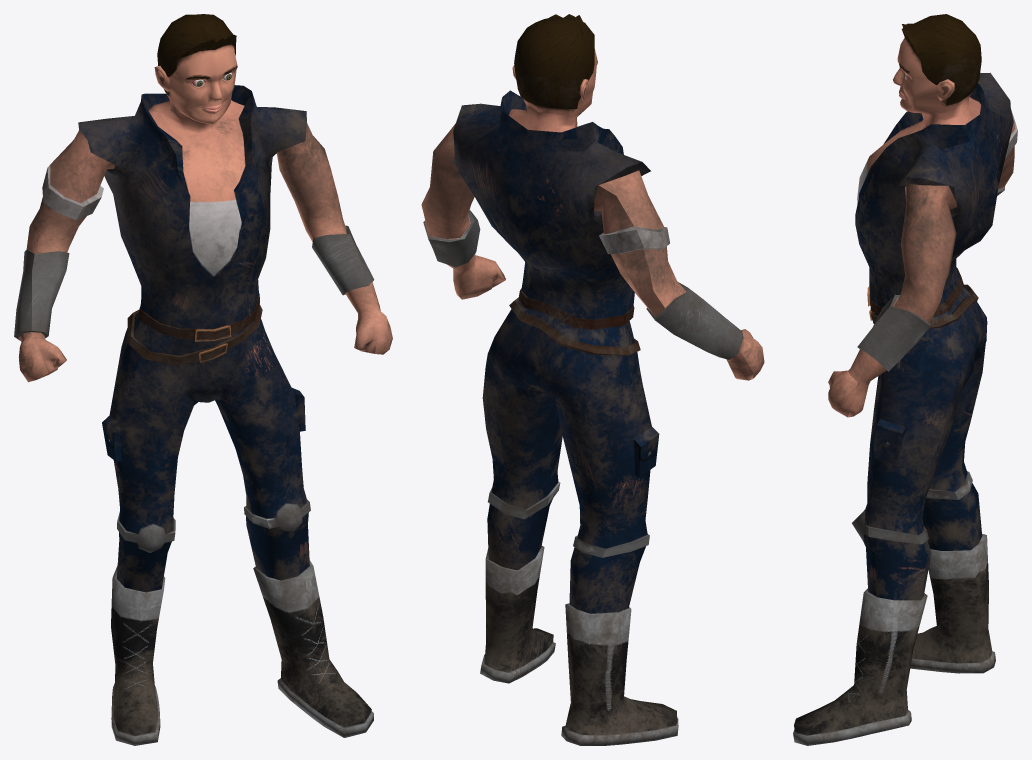
Rendered from Anim_especial_jugador.0039.obj.
3 views of the same model, side by side, from view 1: azimuth 30°, elevation 25°; view 2: azimuth 150°, elevation 25°; view 3: azimuth 270°, elevation 25° (orthographic). The views are drawn at different scales.
Visible parts, largest first — view 1: polySurface1; view 2: polySurface1; view 3: polySurface1.
Boxes of the visible parts, bbox=[...] form: polySurface1: bbox=[14, 14, 392, 745]; polySurface1: bbox=[421, 14, 764, 745]; polySurface1: bbox=[793, 14, 1017, 745].
Size of the model in its own units: 4.94 by 9.71 by 2.91.
